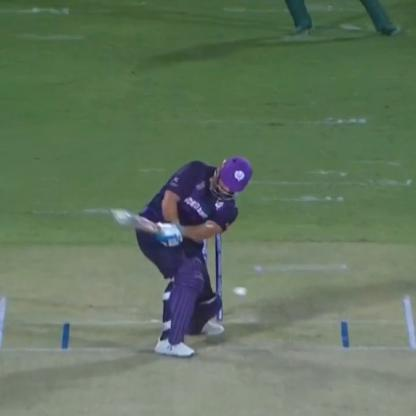ball: (232, 282, 249, 300)
bat: (104, 202, 191, 244)
pitch: (0, 277, 415, 415)
